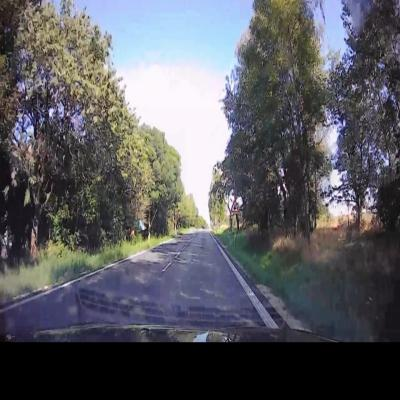clear-road: (93, 230, 241, 301)
